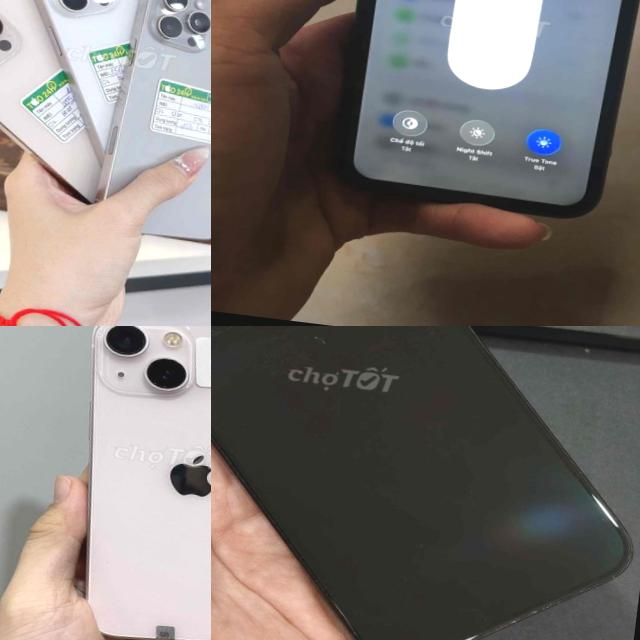scratch: (472, 568, 589, 640), (298, 326, 357, 370)
